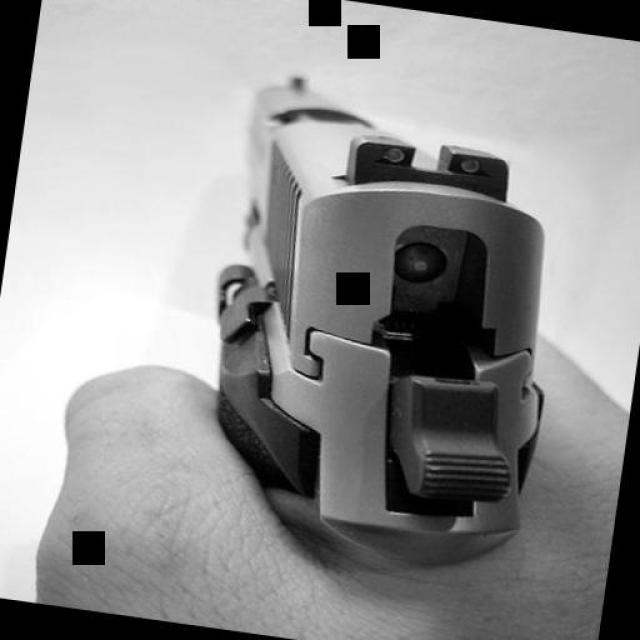gun: (190, 69, 584, 546)
